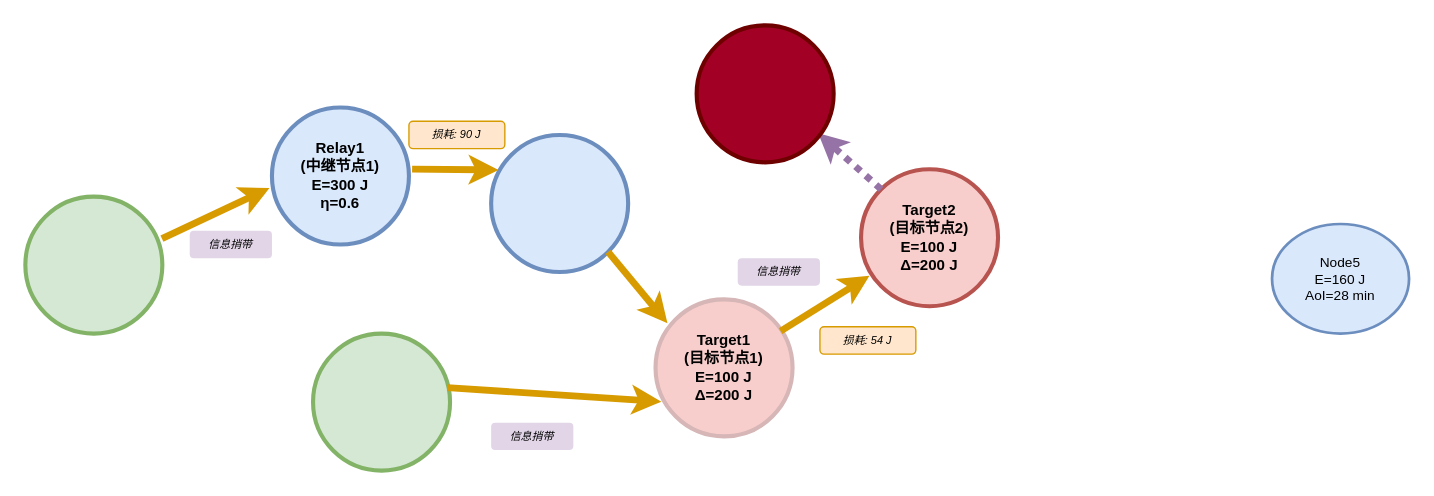
This 1434x496 diagram has some shape labels left out. The shapes that lost their labels are listed below. From the top down, each one's centre as x and y in pixels, then its label:
(x=764, y=93): sink
(x=559, y=202): Relay2 (中继节点2) E=250 J η=0.5
(x=93, y=264): Source1 (源节点1) E=500 J
(x=380, y=401): Source2 (源节点2) E=500 J
